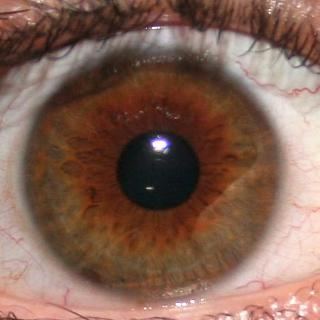pupil: (119, 132, 198, 211)
